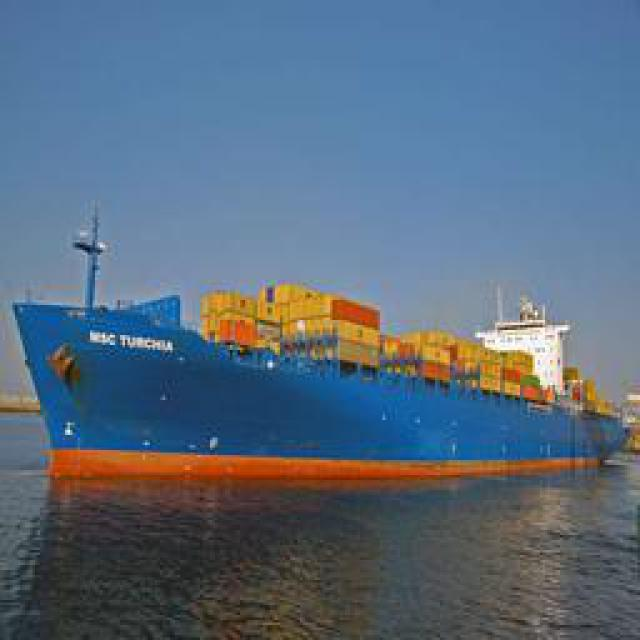Ship: (21, 205, 634, 478)
